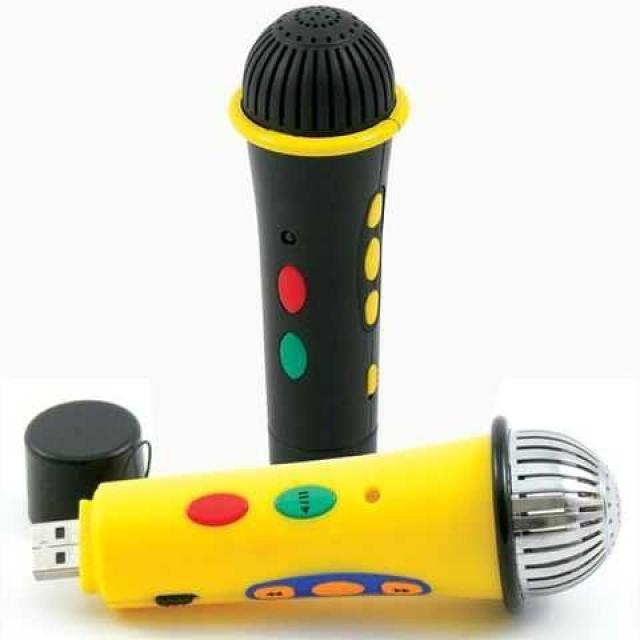microphone: (86, 418, 636, 618), (230, 0, 399, 482)
